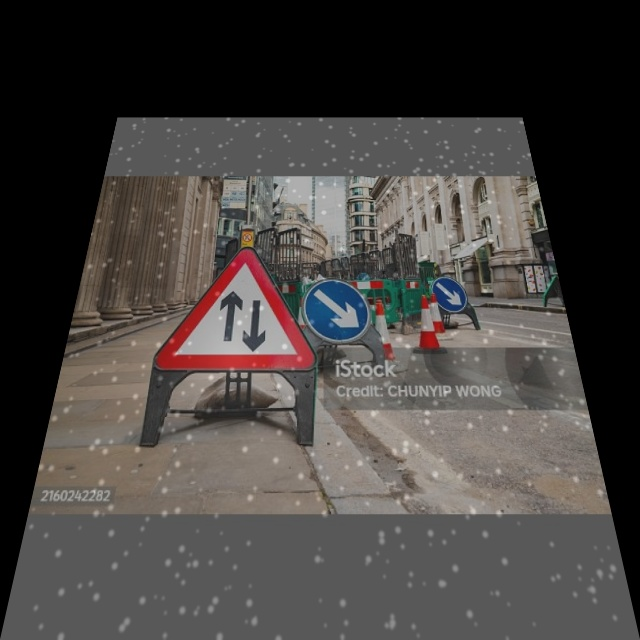Mandatory_Two_Way_Traffic: (160, 245, 313, 376)
